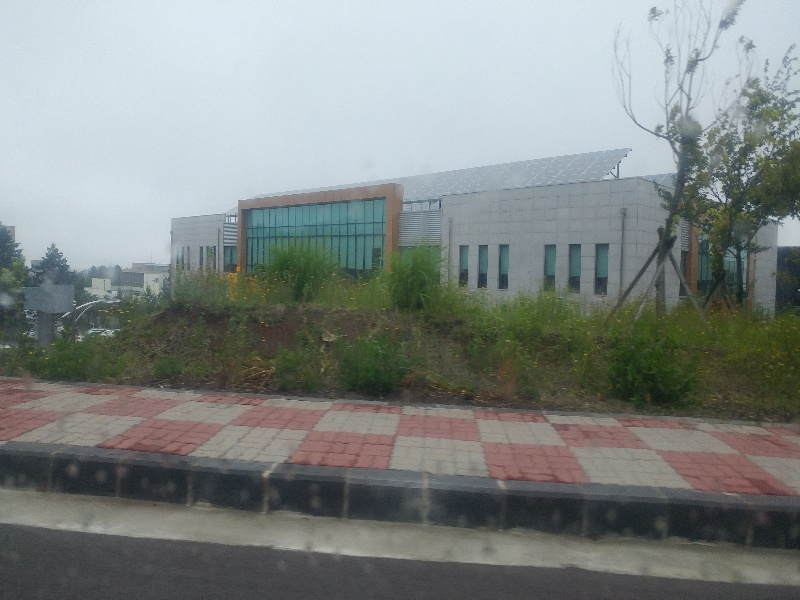Digital Library: (146, 167, 789, 295)
